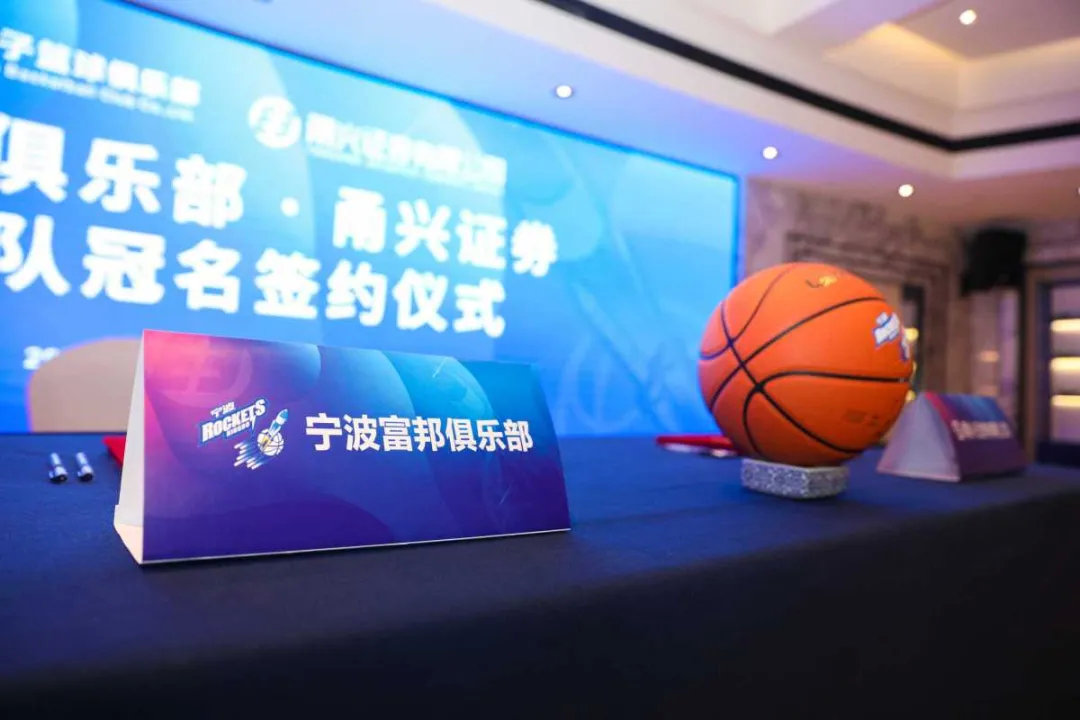ball: (698, 261, 913, 468)
